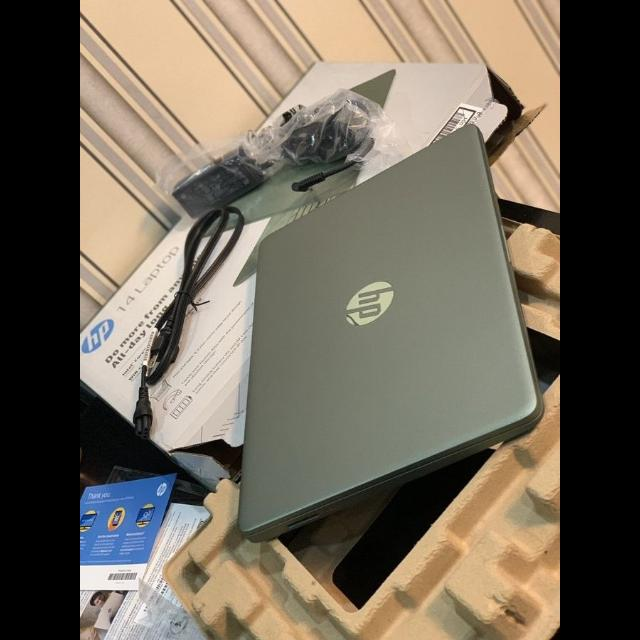laptop: (239, 124, 543, 540)
